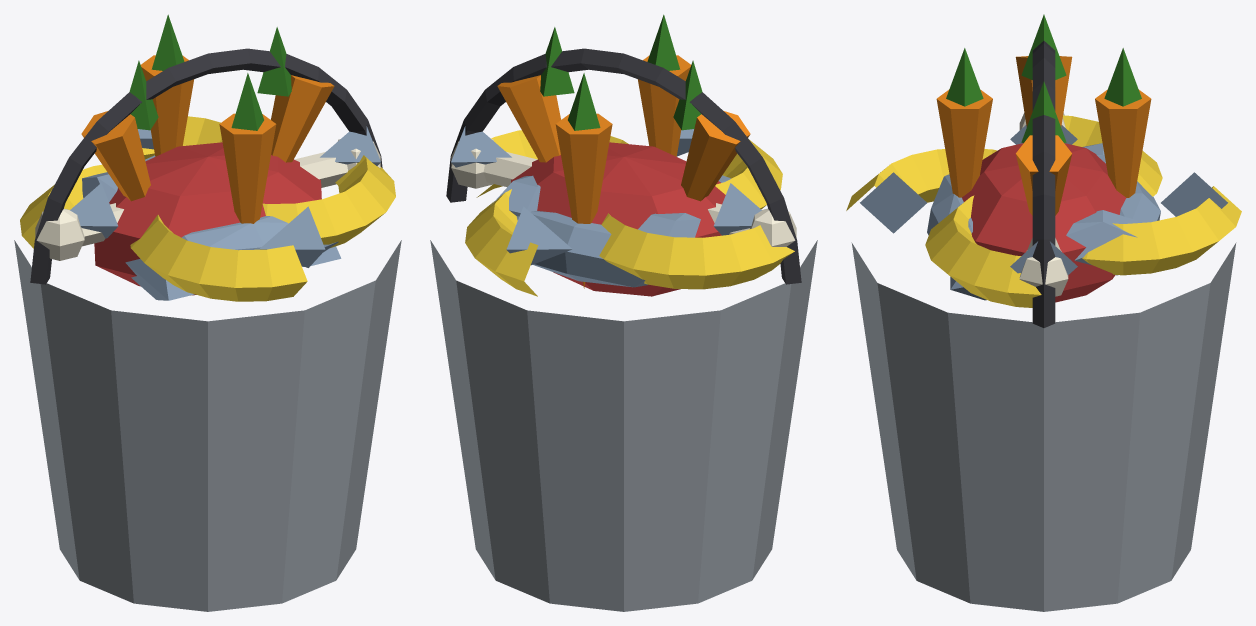
Rendered from food_bucket.glb.
3 views of the same model, side by side, from view 1: azimuth 30°, elevation 25°; view 2: azimuth 150°, elevation 25°; view 3: azimuth 270°, elevation 25° (orthographic).
Parts seen in each view (by area): view 1: bucket_bucket_tin, food_bananas_banana, food_carrots_carrot, food_meat_meat_red, food_fish_fish_scale, bucket_cage_iron, food_carrots_carrot_leaf, food_meat_bone; view 2: bucket_bucket_tin, food_bananas_banana, food_carrots_carrot, food_fish_fish_scale, food_meat_meat_red, bucket_cage_iron, food_carrots_carrot_leaf, food_meat_bone; view 3: bucket_bucket_tin, food_bananas_banana, food_carrots_carrot, food_meat_meat_red, food_fish_fish_scale, bucket_cage_iron, food_carrots_carrot_leaf, food_meat_bone.
Part boxes in pixels (x1,y1,x2,y2): bucket_bucket_tin: (14,240,401,611); food_bananas_banana: (20,116,395,301); food_carrots_carrot: (81,55,334,223); food_meat_meat_red: (94,142,321,295); food_fish_fish_scale: (70,126,380,300); bucket_cage_iron: (30,48,382,284); food_carrots_carrot_leaf: (129,14,291,130); food_meat_bone: (35,139,380,260); bucket_bucket_tin: (430,240,817,611); food_bananas_banana: (465,130,794,296); food_carrots_carrot: (497,55,750,288); food_fish_fish_scale: (451,126,761,287); food_meat_meat_red: (511,142,725,296); bucket_cage_iron: (446,48,801,284); food_carrots_carrot_leaf: (540,14,702,130); food_meat_bone: (451,139,796,246); bucket_bucket_tin: (851,242,1236,611); food_bananas_banana: (846,115,1241,307); food_carrots_carrot: (936,56,1151,215); food_meat_meat_red: (962,143,1126,302); food_fish_fish_scale: (860,125,1227,300); bucket_cage_iron: (1032,41,1055,327); food_carrots_carrot_leaf: (946,14,1141,143); food_meat_bone: (1019,113,1068,296).
Bounding box in the file's own units: 0.36 × 0.49 × 0.35.
